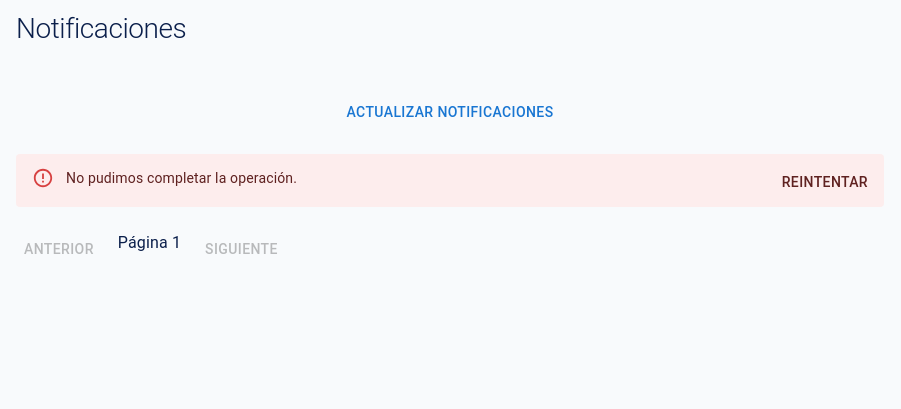
Notificaciones › si falla la carga inicial, «Reintentar» vuelve a pedir y muestra los datos
Check: the message "No pudimos completar la operación. Reintentar" is shown, box [16,154,884,207]
Click the button "Reintentar".
click(825, 182)  # box [774,164,876,201]
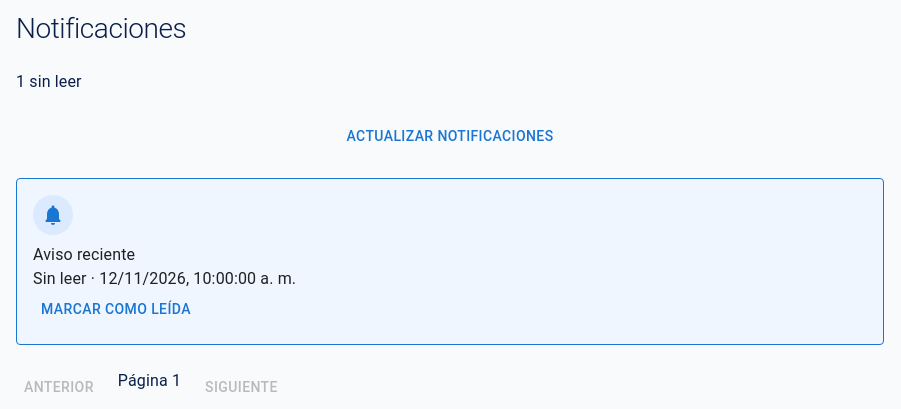
Check: the text "Aviso reciente" is shown, box [33,245,135,264]
